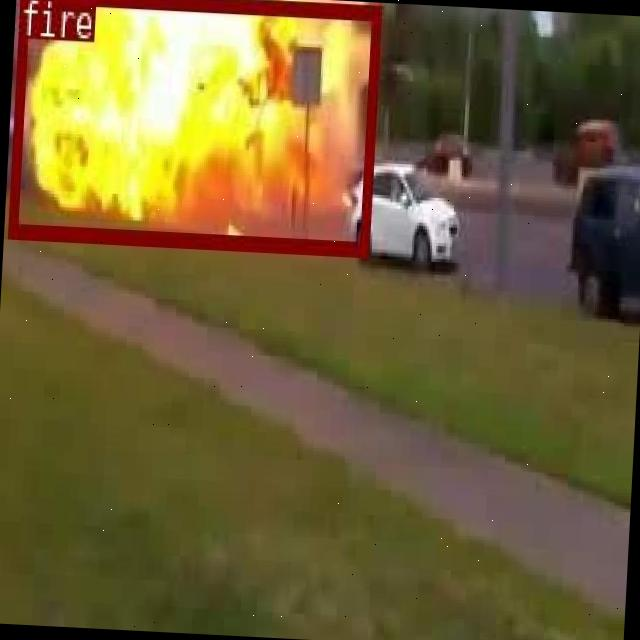fire: (8, 0, 381, 255)
